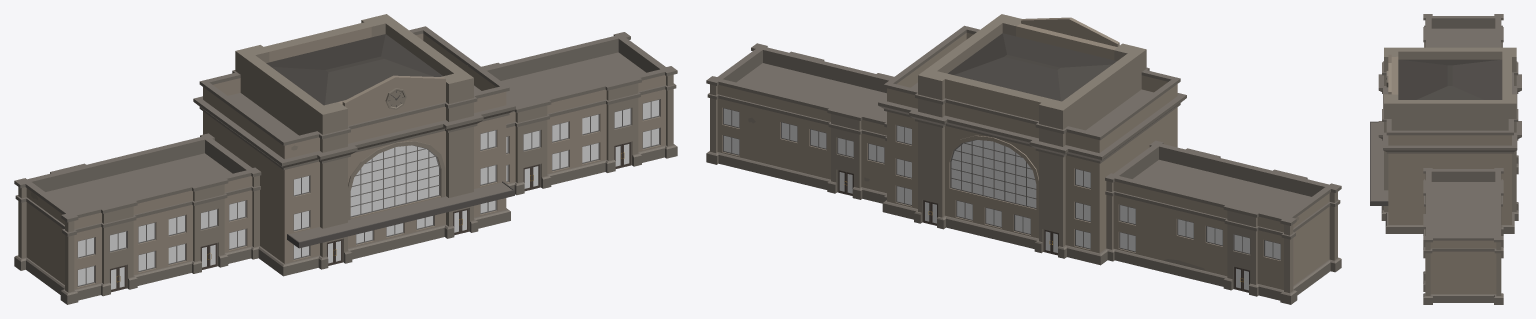
Rendered from SM_Bldg_City_General_01.fbx.
3 views of the same model, side by side, from view 1: azimuth 30°, elevation 25°; view 2: azimuth 150°, elevation 25°; view 3: azimuth 270°, elevation 25° (orthographic). The views are drawn at different scales.
Parts seen in each view (by area): view 1: SM_Bldg_City_General_01, SM_Bldg_City_General_01_Glass; view 2: SM_Bldg_City_General_01, SM_Bldg_City_General_01_Glass; view 3: SM_Bldg_City_General_01.
Part boxes in pixels (x1,y1,x2,y2): SM_Bldg_City_General_01: (14,14,677,304); SM_Bldg_City_General_01_Glass: (78,100,658,285); SM_Bldg_City_General_01: (706,14,1341,304); SM_Bldg_City_General_01_Glass: (724,108,1280,259); SM_Bldg_City_General_01: (1370,14,1521,304).
Size of the model in its own units: 6049 by 1610 by 1715.
